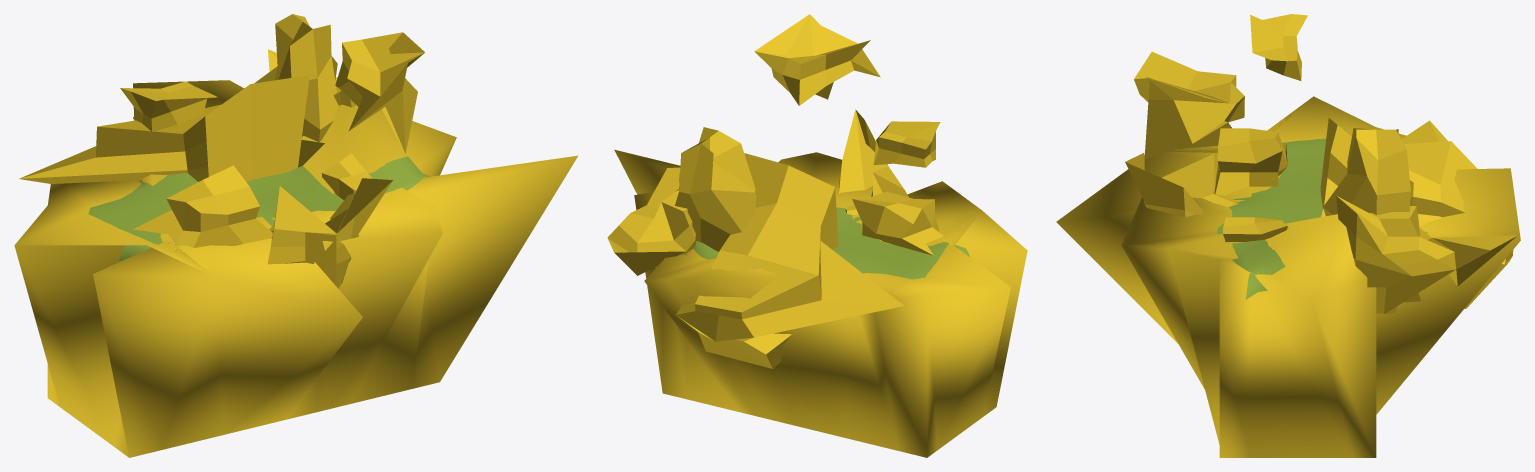
File: TestIsland.glb
3 views of the same model, side by side, from view 1: azimuth 30°, elevation 25°; view 2: azimuth 150°, elevation 25°; view 3: azimuth 270°, elevation 25° (orthographic). The views are drawn at different scales.
Visible parts, largest first — view 1: MainIsland, Rocks.007, MainIsland.001, Rocks.006, Rocks.002, Rocks, Rocks.004, Rocks.001, Rocks.005; view 2: MainIsland, Rocks.007, Rocks.004, Rocks, Rocks.003, MainIsland.001, Rocks.006, Rocks.002, Rocks.001; view 3: MainIsland, Rocks.003, Rocks, Rocks.007, MainIsland.001, Rocks.004, Rocks.006, Rocks.002, Rocks.001, Rocks.005.
Boxes of the visible parts, x1,y1,x2,y2 form: MainIsland: (14, 80, 577, 457); Rocks.007: (19, 75, 324, 183); MainIsland.001: (88, 156, 429, 261); Rocks.006: (133, 165, 272, 247); Rocks.002: (267, 178, 392, 288); Rocks: (335, 32, 424, 153); Rocks.004: (254, 14, 338, 141); Rocks.001: (120, 81, 217, 131); Rocks.005: (321, 153, 372, 199); MainIsland: (614, 149, 1027, 457); Rocks.007: (676, 153, 903, 368); Rocks.004: (675, 127, 756, 251); Rocks: (754, 14, 880, 105); Rocks.003: (607, 167, 695, 275); MainIsland.001: (693, 207, 970, 279); Rocks.006: (852, 191, 943, 255); Rocks.002: (839, 109, 908, 216); Rocks.001: (873, 121, 940, 167); MainIsland: (1056, 96, 1520, 457); Rocks.003: (1336, 195, 1517, 313); Rocks: (1134, 51, 1244, 159); Rocks.007: (1320, 118, 1513, 308); MainIsland.001: (1217, 138, 1427, 299); Rocks.004: (1323, 128, 1413, 313); Rocks.006: (1214, 128, 1287, 195); Rocks.002: (1125, 153, 1238, 217); Rocks.001: (1250, 14, 1307, 80); Rocks.005: (1223, 217, 1288, 243).
Size of the model in its own units: 40.53 by 27.87 by 32.98.
